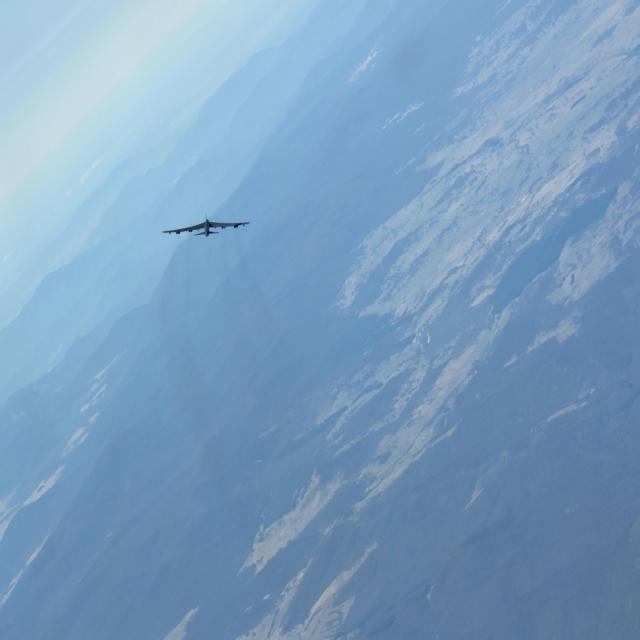MIL_Plane: (162, 212, 251, 238)
